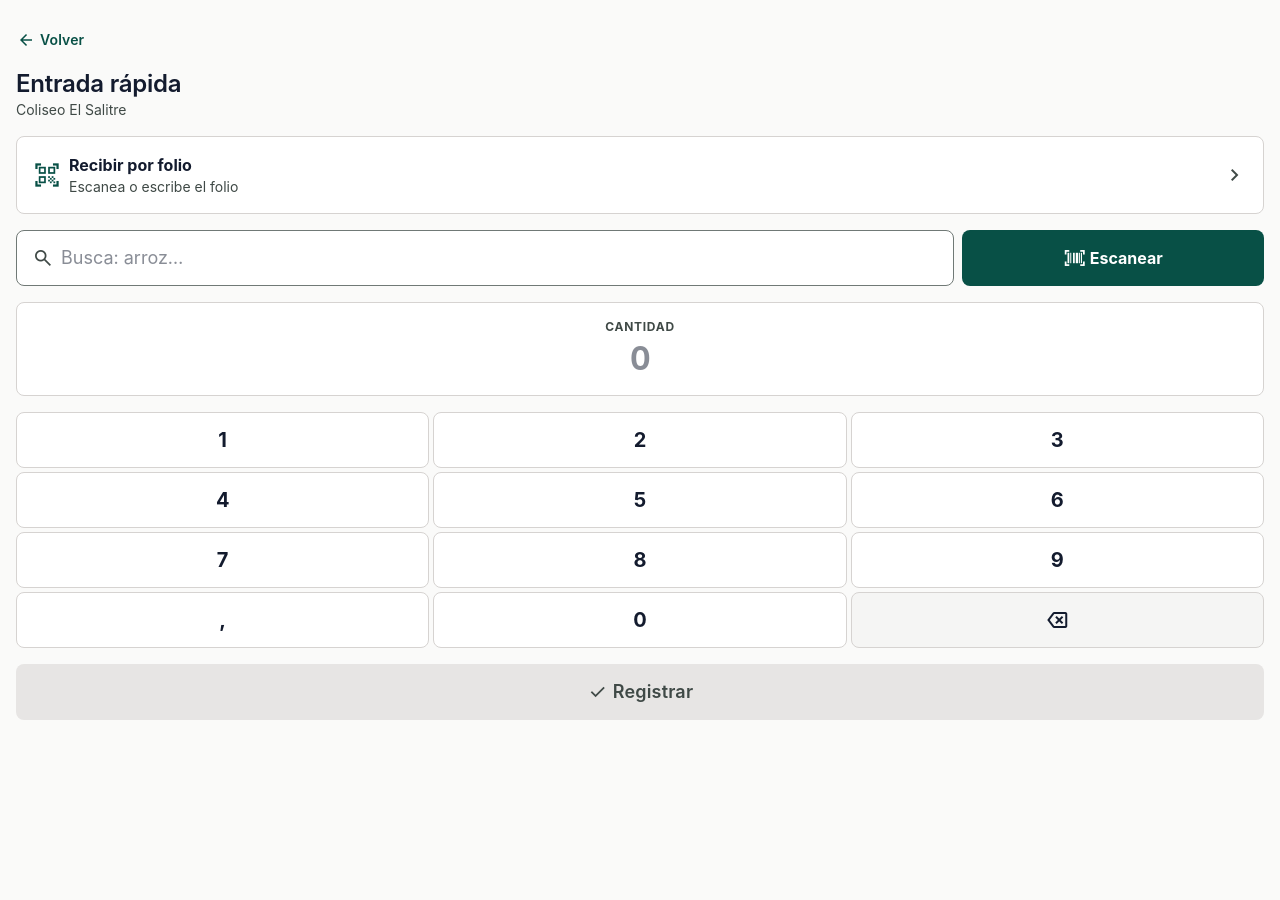
Test: C4 Entrada rápida › el punto escrito con el teclado del equipo cuenta como coma
This screenshot has width=1280, height=900.
Type "arroz" into the search field named "Categoría" at (485, 258), box [16,230,954,286]
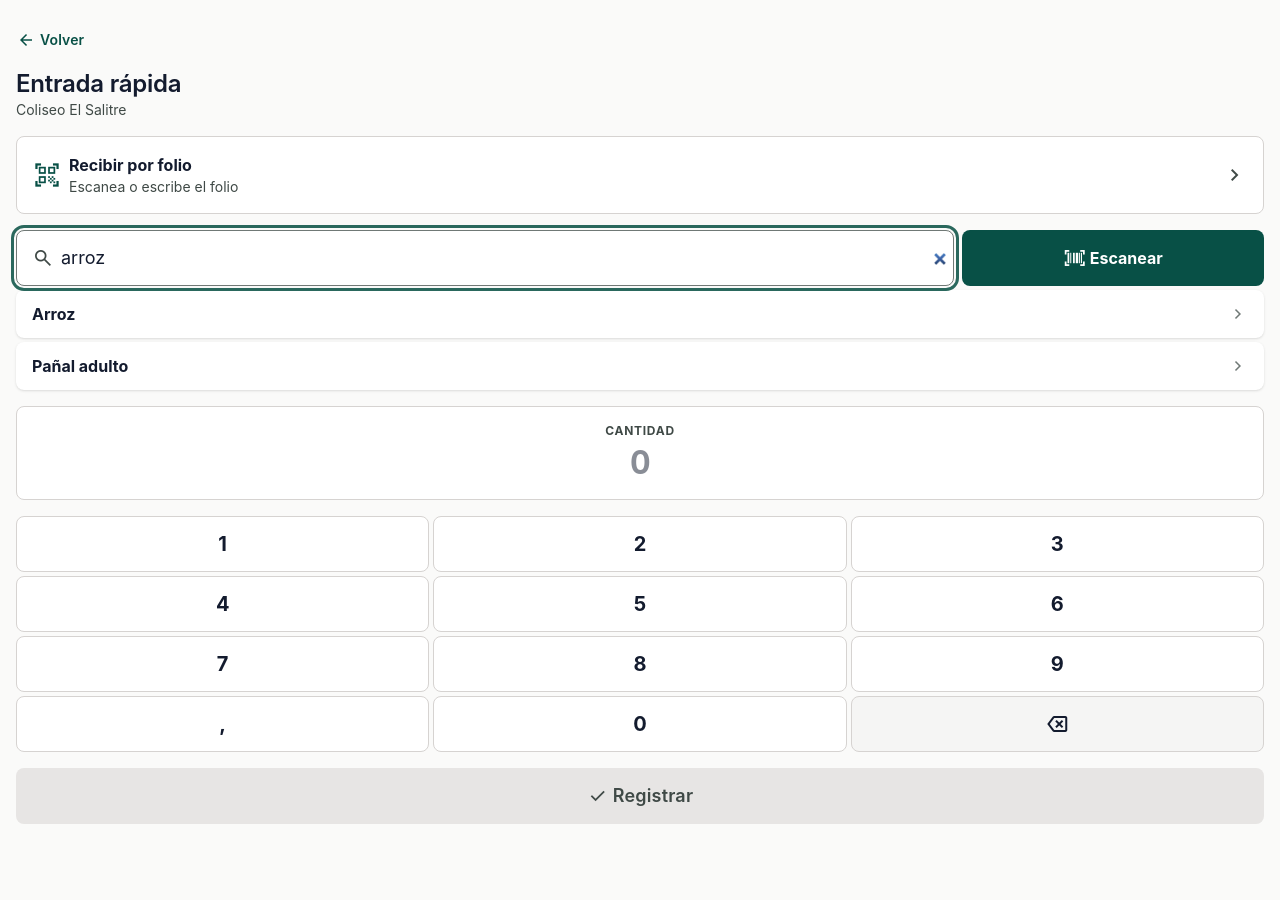
Click the button "Arroz" at (54, 314), box [16,290,1264,338]
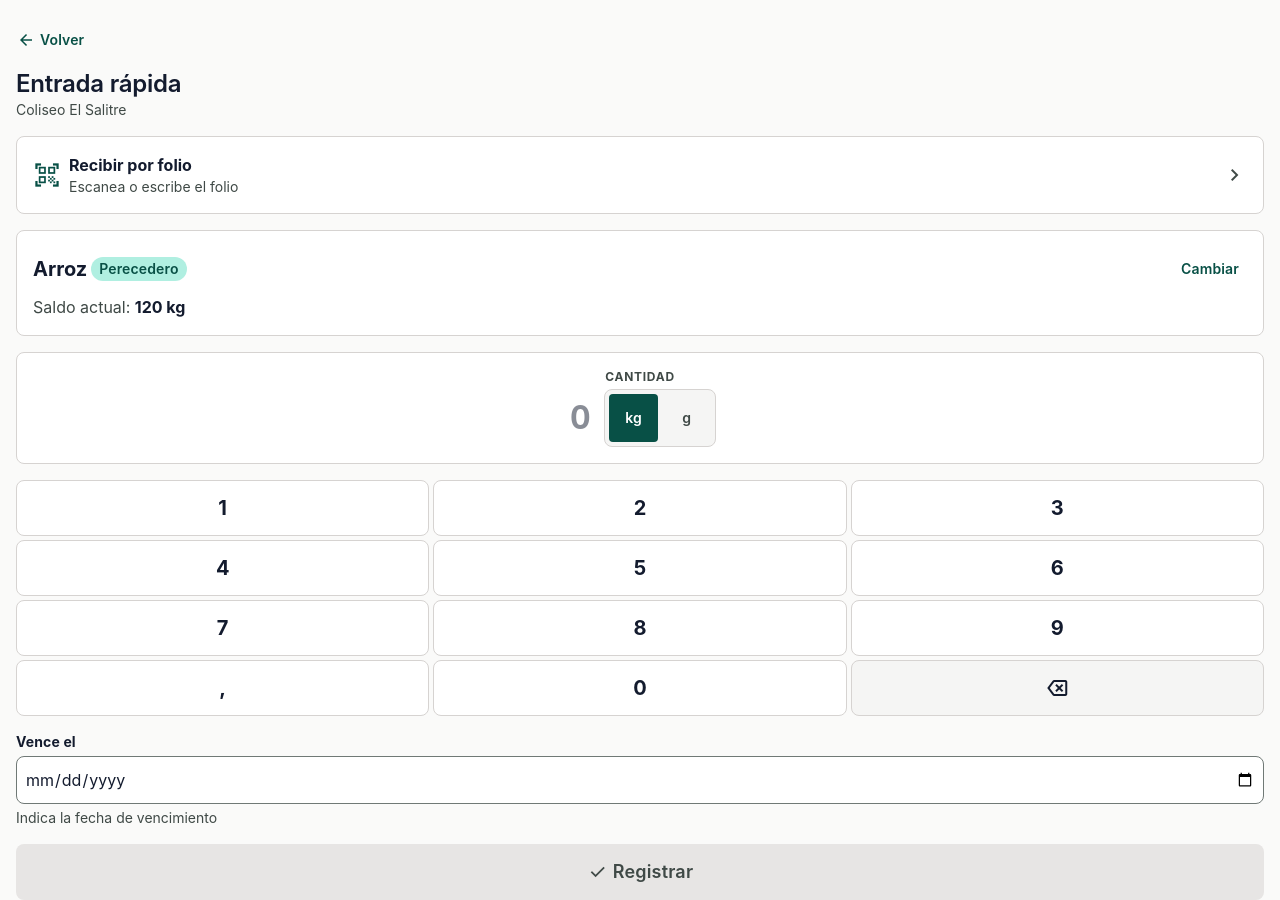
Type "2.5" into the field named "Cantidad" at (580, 418), box [564,398,596,438]
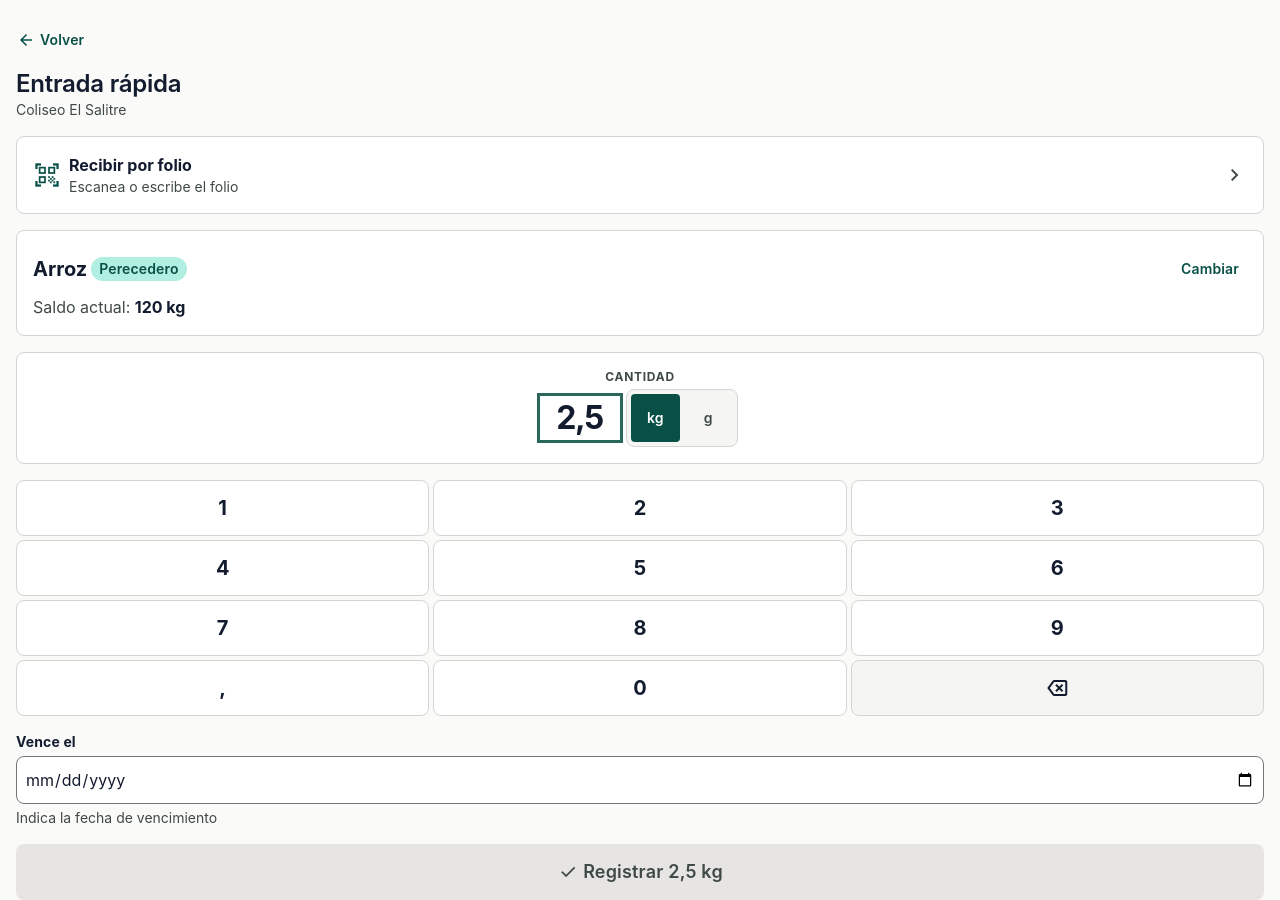
Result: the field named "Cantidad" holds "2,5" at [542,398,618,438]
Result: the button "Registrar 2,5 kg" is shown at [16,844,1264,899]
